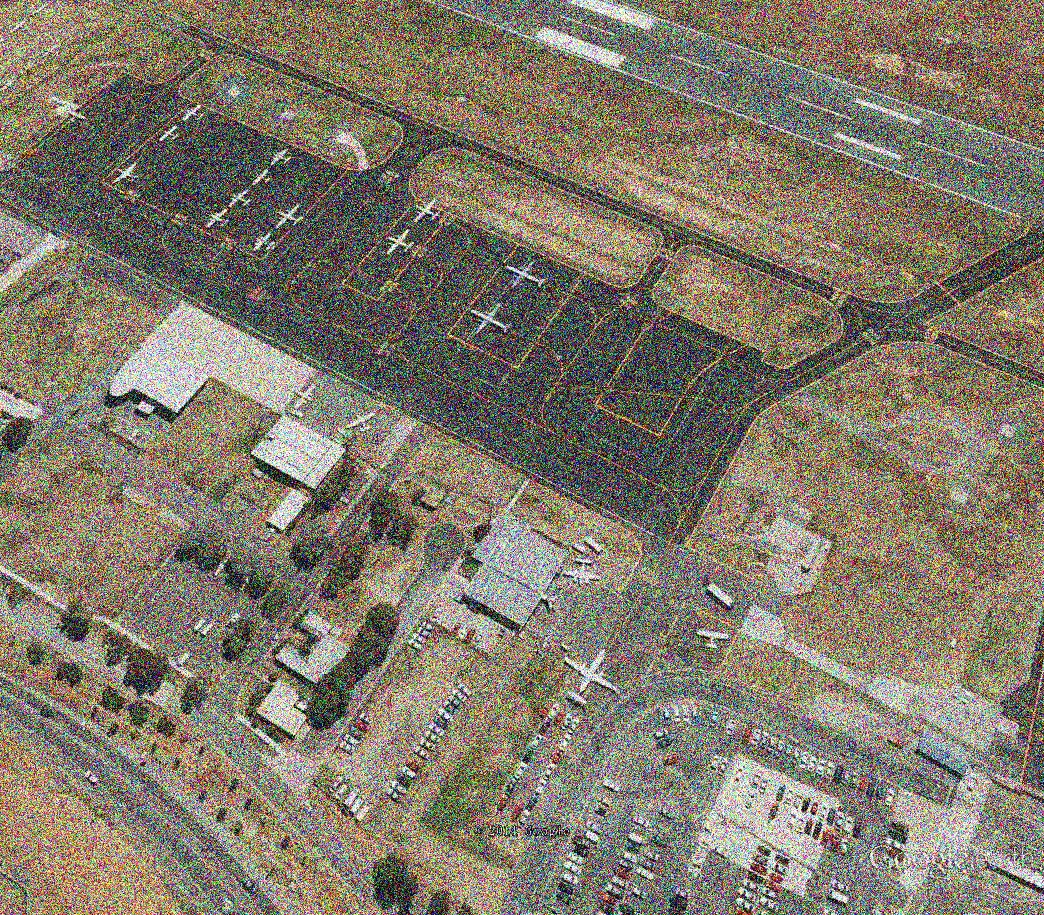aircraft: (562, 646, 618, 707), (468, 301, 515, 342), (504, 258, 551, 296), (559, 556, 606, 591), (381, 229, 416, 258), (273, 200, 303, 232), (345, 409, 379, 437), (410, 199, 444, 225), (112, 160, 143, 188), (289, 383, 317, 412), (225, 187, 254, 213), (250, 230, 280, 255), (204, 207, 233, 232), (268, 145, 294, 168), (182, 103, 209, 124), (156, 124, 183, 144), (558, 568, 585, 587), (250, 168, 274, 189), (8, 19, 33, 38), (39, 44, 64, 63), (65, 109, 91, 127), (25, 5, 54, 20), (16, 62, 39, 78), (1, 78, 18, 96)
